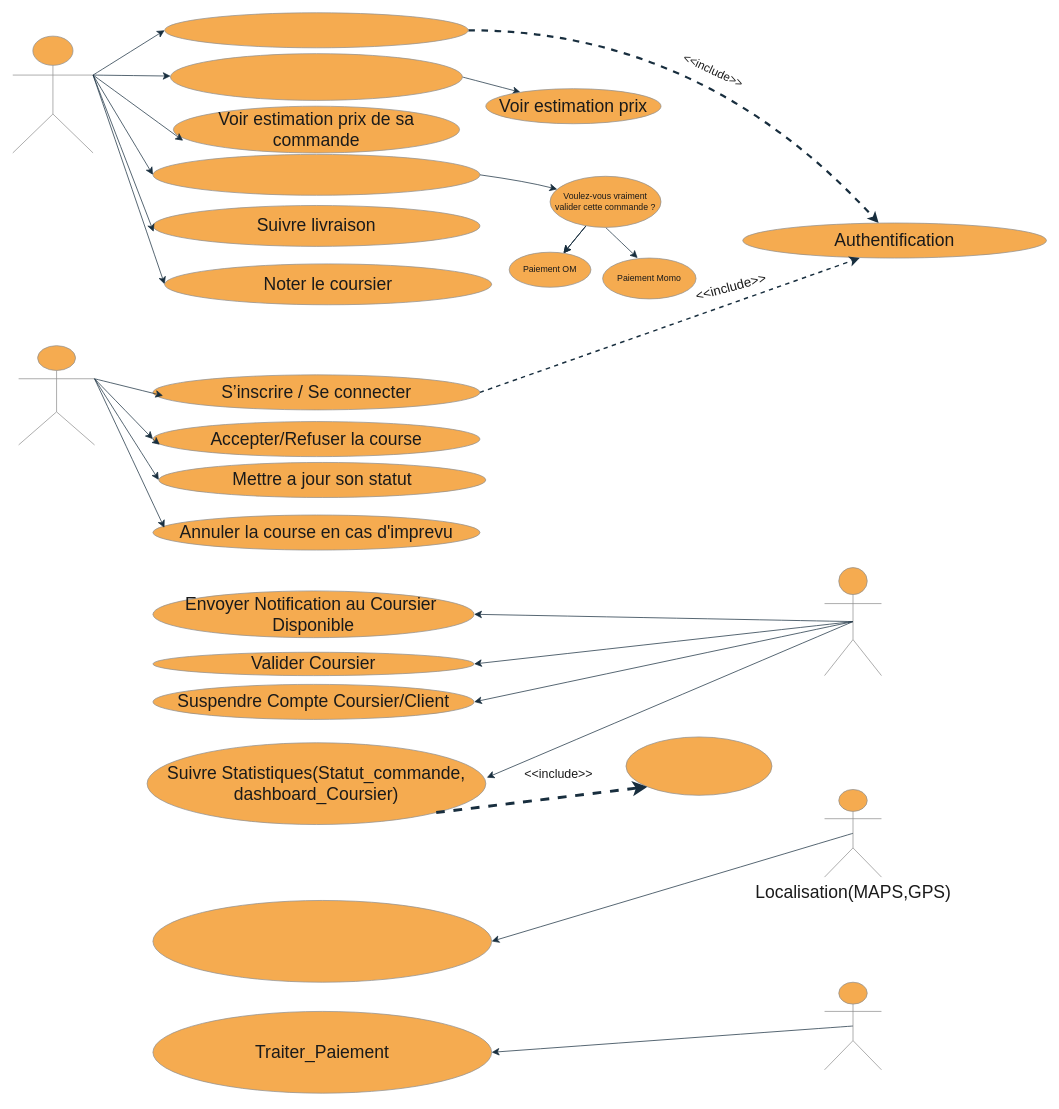
Some shapes in this 1059 by 1109 pixel diagram are drawn without their labels. The box of each missing label's shape, as (x1, y1, x2, y2) in pixels:
(S’inscrire / Se connecter): (164, 12, 468, 48)
Admin: (824, 567, 881, 676)
Calculer distance_livraison: (152, 900, 492, 982)
Client: (12, 35, 93, 153)
Coursier: (18, 345, 95, 445)
Créer une livraison/Passer la commande: (170, 53, 462, 100)
Gérer les litiges: (625, 736, 772, 795)
Paiement(OM/MOMO): (824, 981, 881, 1070)
Payer la livraison: (152, 154, 480, 195)
